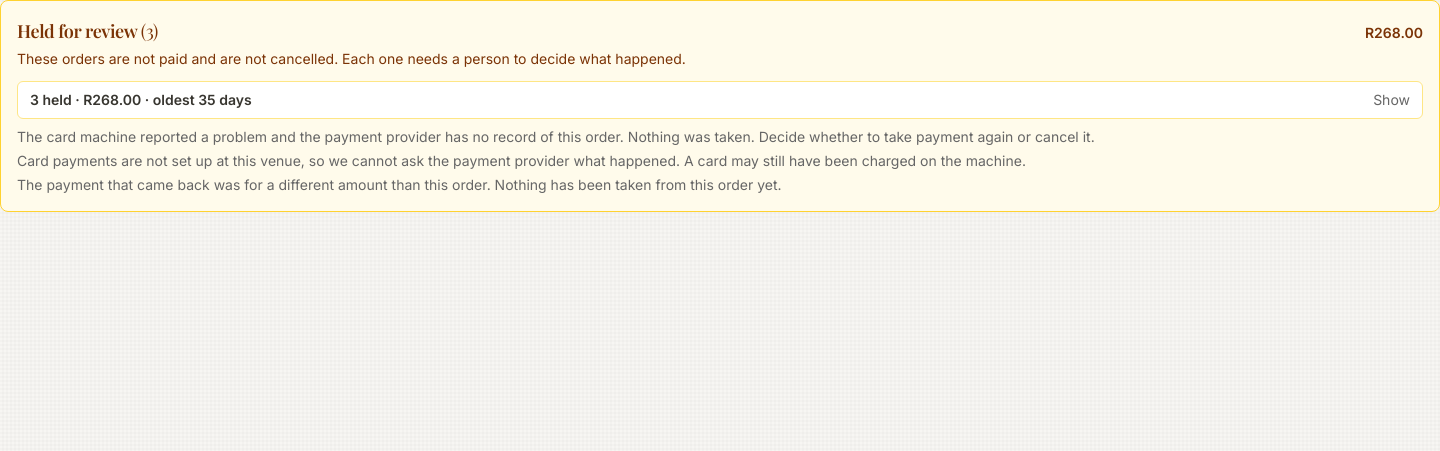
Test: #353 the populated panel › uses the venue currency symbol rather than a hard-coded one
Click the button with test id "held-for-review-summary" at (61, 100), box left=17, top=81, right=1423, bottom=119
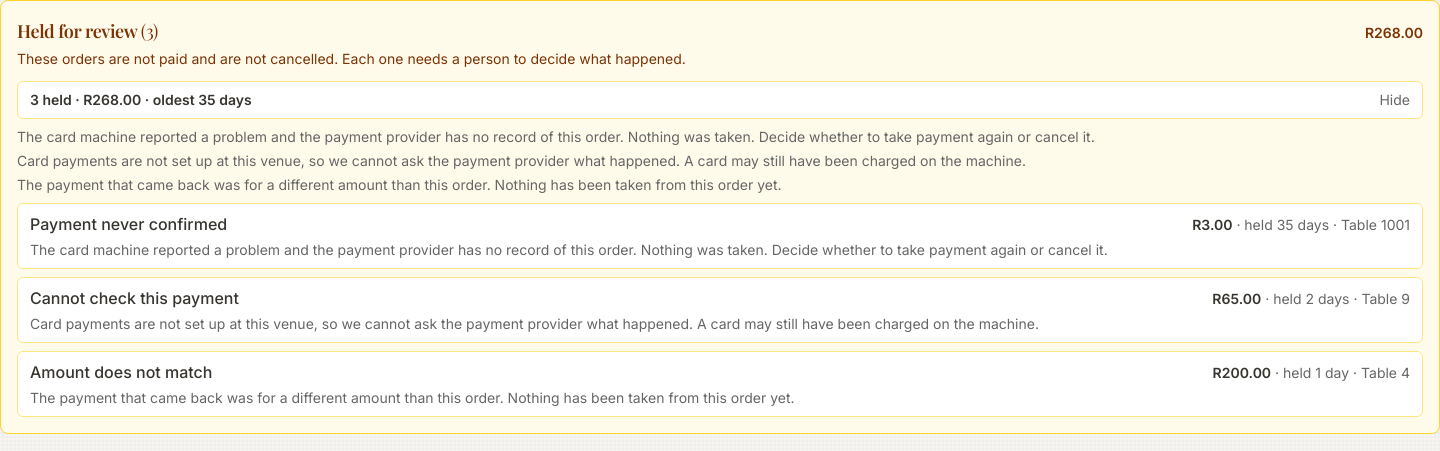
Expected: the text with test id "held-row-amount" reads "R3.00", left=1192, top=216, right=1232, bottom=233
